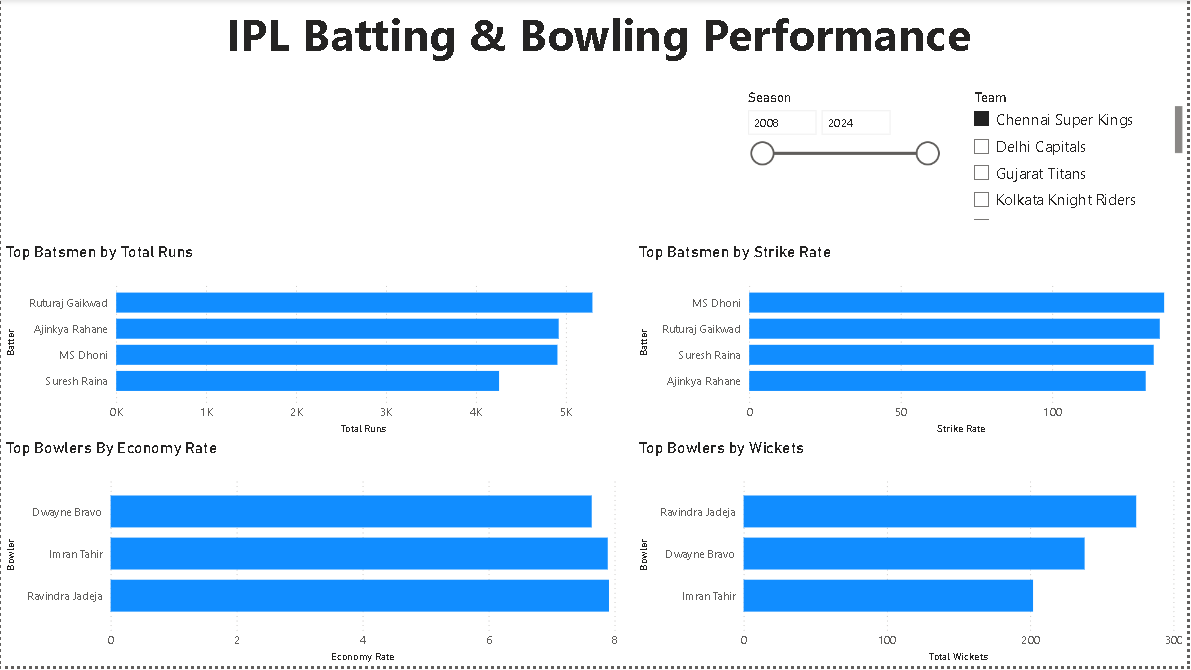

This screenshot's page, from the dashboard's own definition file:
{"tool":"powerbi","page":{"name":"Dashboard 2 - Batting & Bowling","canvas":[1280,720],"ordinal":1},"visuals":[{"type":"textbox","box":[10,0,1270,92],"z":0},{"type":"clusteredBarChart","title":"Top Batsmen by Total Runs","fields":{"Category":["IPL_Batting.Batter"],"Y":["IPL_Batting.Total Runs"]},"box":[0,262,670,212],"z":1},{"type":"clusteredBarChart","title":"Top Batsmen by Strike Rate","fields":{"Category":["IPL_Batting.Batter"],"Y":["IPL_Batting.Strike Rate"]},"box":[684,262,596,212],"z":2},{"type":"clusteredBarChart","title":"Top Bowlers by Wickets","fields":{"Category":["IPL_Bowling.Bowler"],"Y":["IPL_Bowling.Total Wickets"]},"box":[684,474,596,246],"z":3},{"type":"clusteredBarChart","title":"Top Bowlers By Economy Rate","fields":{"Category":["IPL_Bowling.Bowler"],"Y":["IPL_Bowling.Economy Rate"]},"box":[0,474,670,246],"z":4},{"type":"slicer","fields":{"Values":["DimSeason.Season"]},"box":[794,92,228,150],"z":5},{"type":"slicer","fields":{"Values":["DimTeam.Team"]},"box":[1038,92,242,150],"z":6}]}

Visuals, with their boxes in screenshot pixels (x1, y1, x2, y2), scaled from the page's 1280x720 canvas onto the 1191x670 screenshot:
textbox: <region>9, 0, 1190, 86</region>
"Top Batsmen by Total Runs" clusteredBarChart: <region>0, 244, 623, 441</region>
"Top Batsmen by Strike Rate" clusteredBarChart: <region>636, 244, 1190, 441</region>
"Top Bowlers by Wickets" clusteredBarChart: <region>636, 441, 1190, 669</region>
"Top Bowlers By Economy Rate" clusteredBarChart: <region>0, 441, 623, 669</region>
slicer - DimSeason.Season: <region>739, 86, 951, 225</region>
slicer - DimTeam.Team: <region>966, 86, 1190, 225</region>
